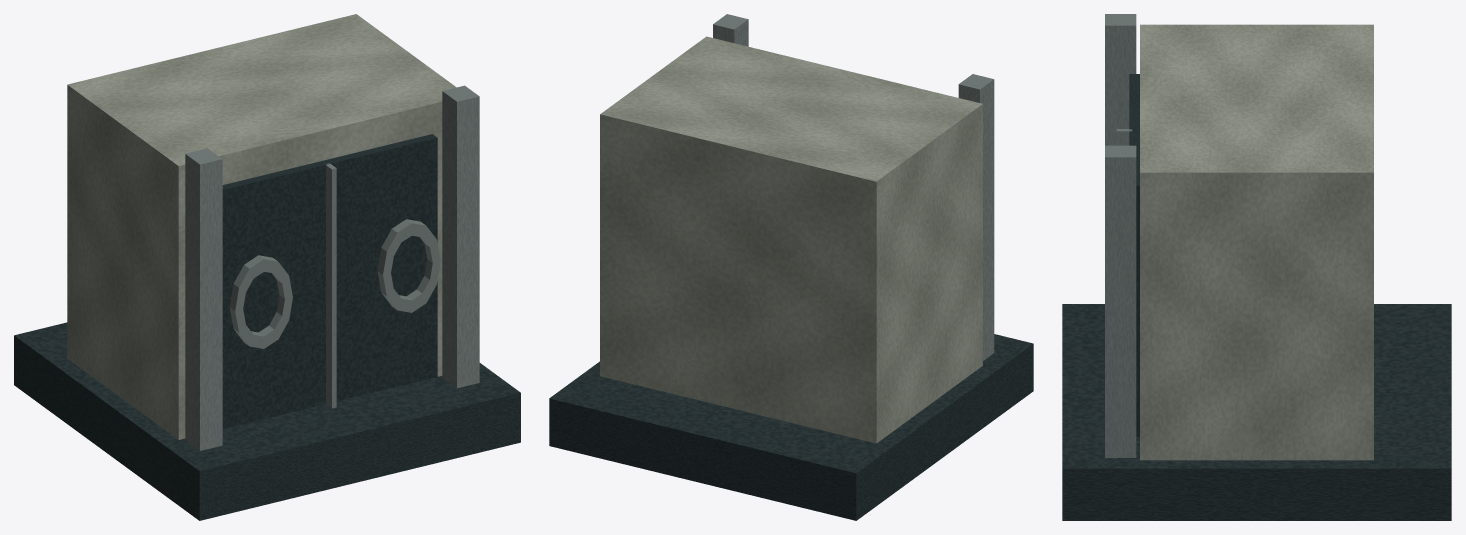
The model's file is rim_airlock_01.fbx.
3 views of the same model, side by side, from view 1: azimuth 30°, elevation 25°; view 2: azimuth 150°, elevation 25°; view 3: azimuth 270°, elevation 25° (orthographic). The views are drawn at different scales.
Parts seen in each view (by area): view 1: rim_airlock_01_LOD0; view 2: rim_airlock_01_LOD0; view 3: rim_airlock_01_LOD0.
Part boxes in pixels (x1,y1,x2,y2): rim_airlock_01_LOD0: [14, 14, 520, 520]; rim_airlock_01_LOD0: [549, 14, 1033, 520]; rim_airlock_01_LOD0: [1062, 14, 1451, 520].
Size of what is drawn, in the model's own units: 1 by 1 by 1.
